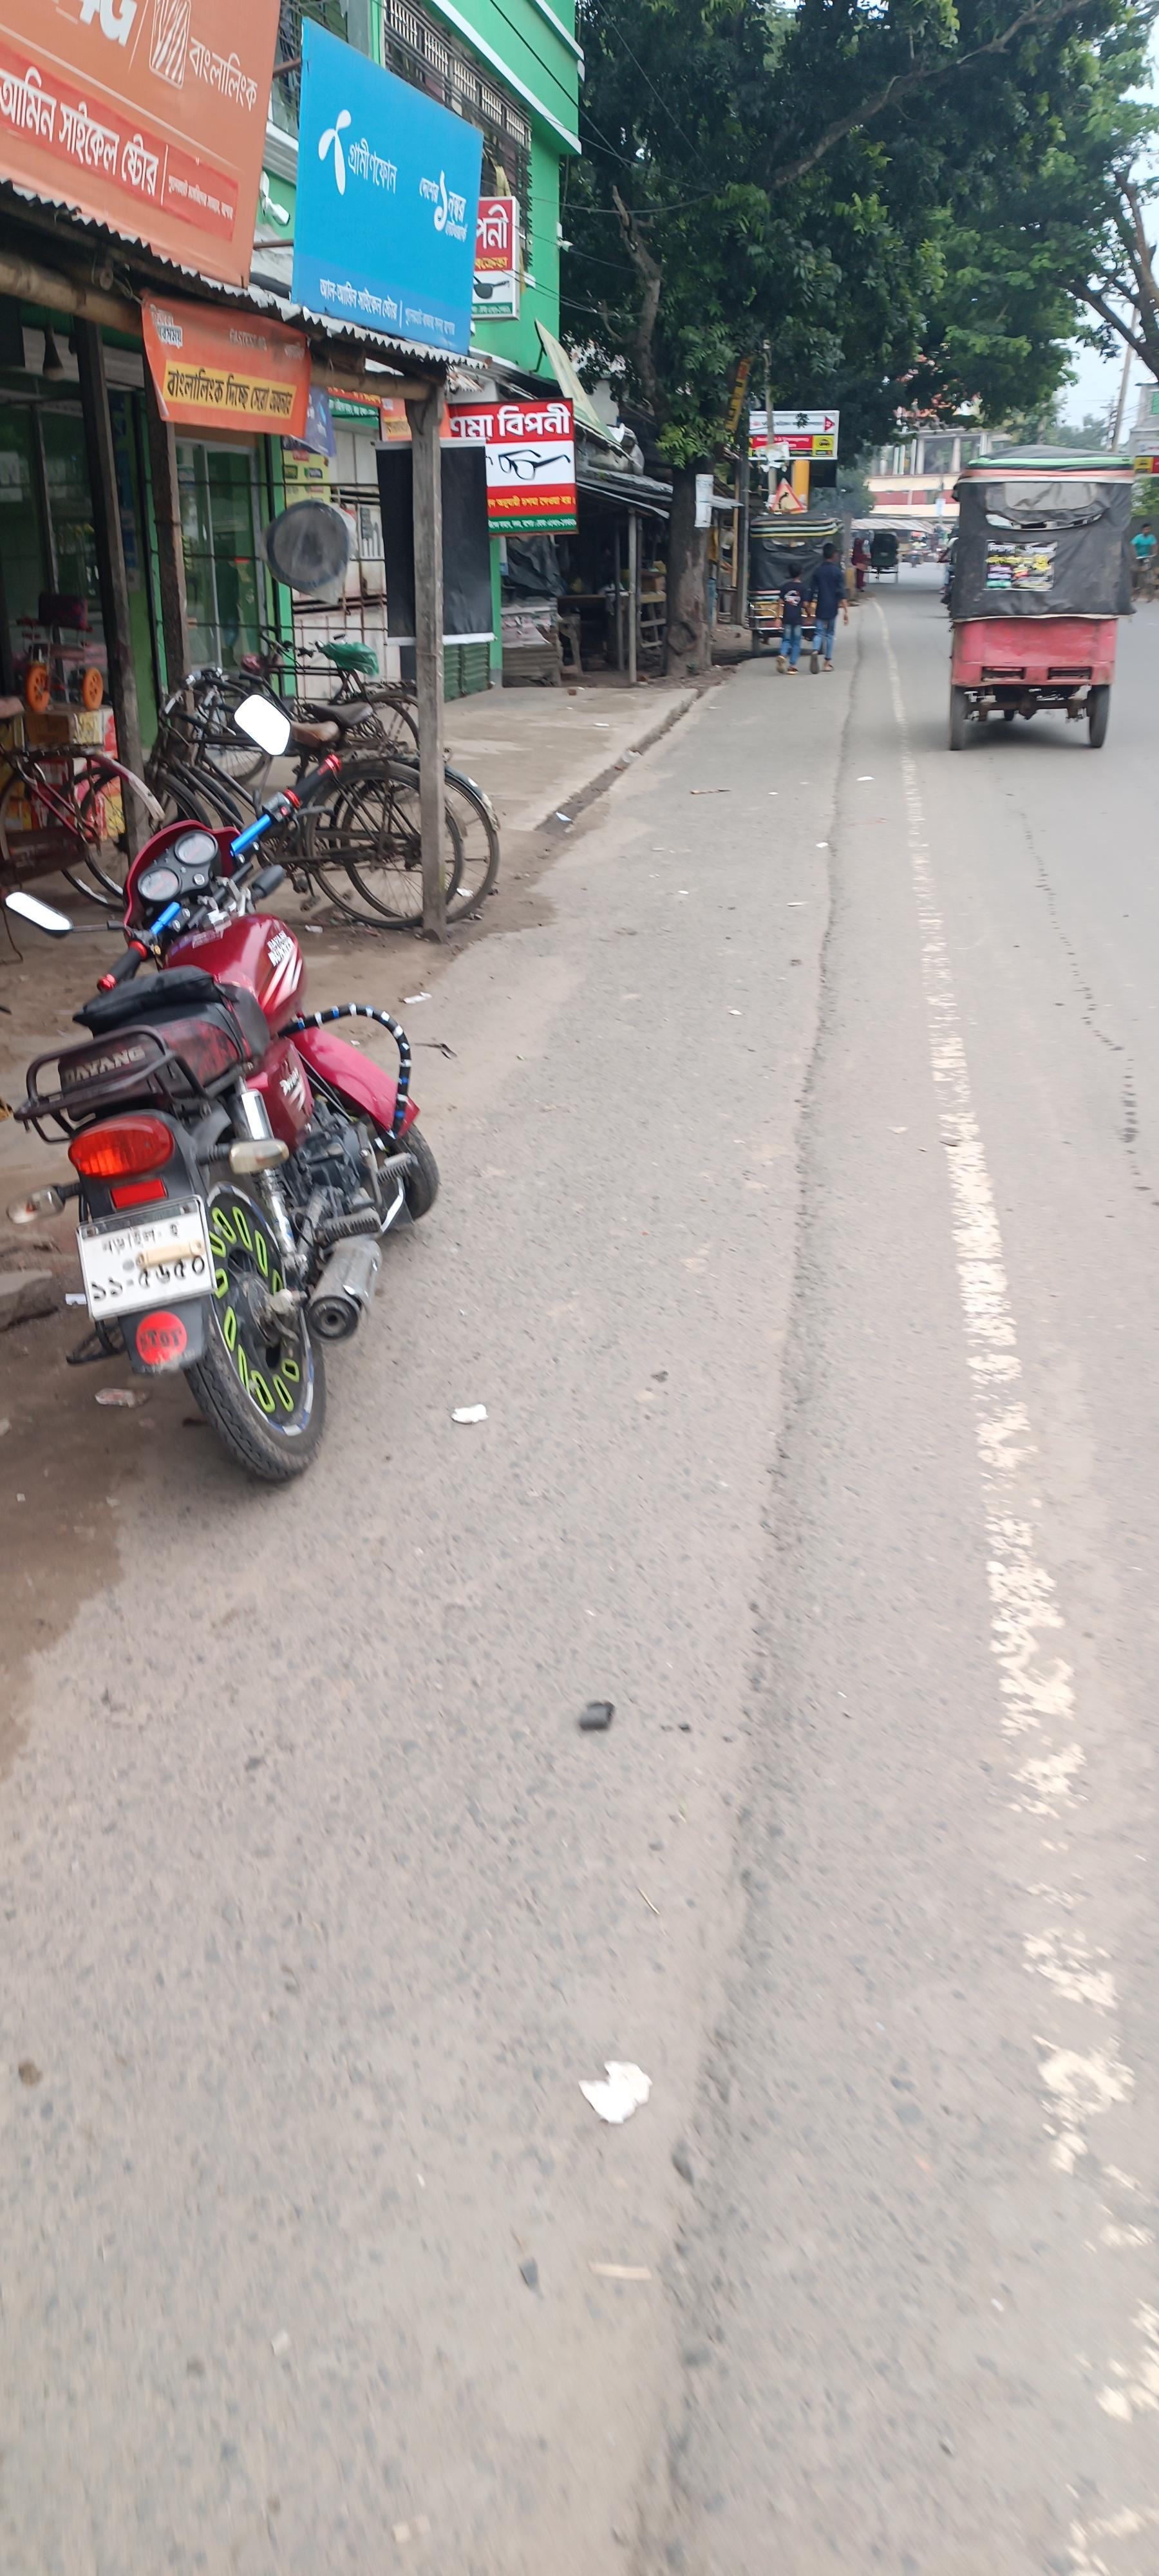Construction-barrier: (663, 703, 901, 2576)
Fallen-tree: (2, 705, 447, 1483)
Garbage-bin: (804, 542, 849, 674), (776, 563, 808, 674)
Pothole: (57, 644, 703, 2499)
Traffic-cone: (903, 419, 1159, 785)
